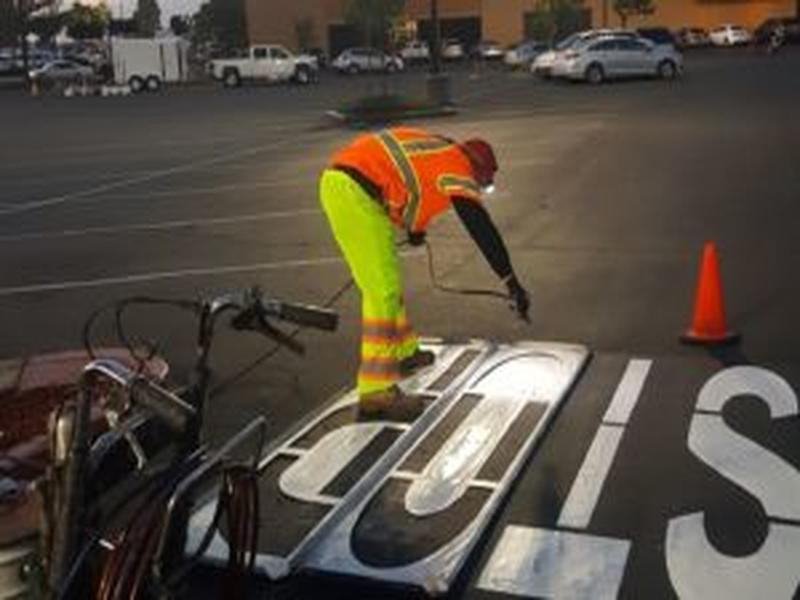Cone: (678, 239, 744, 348)
